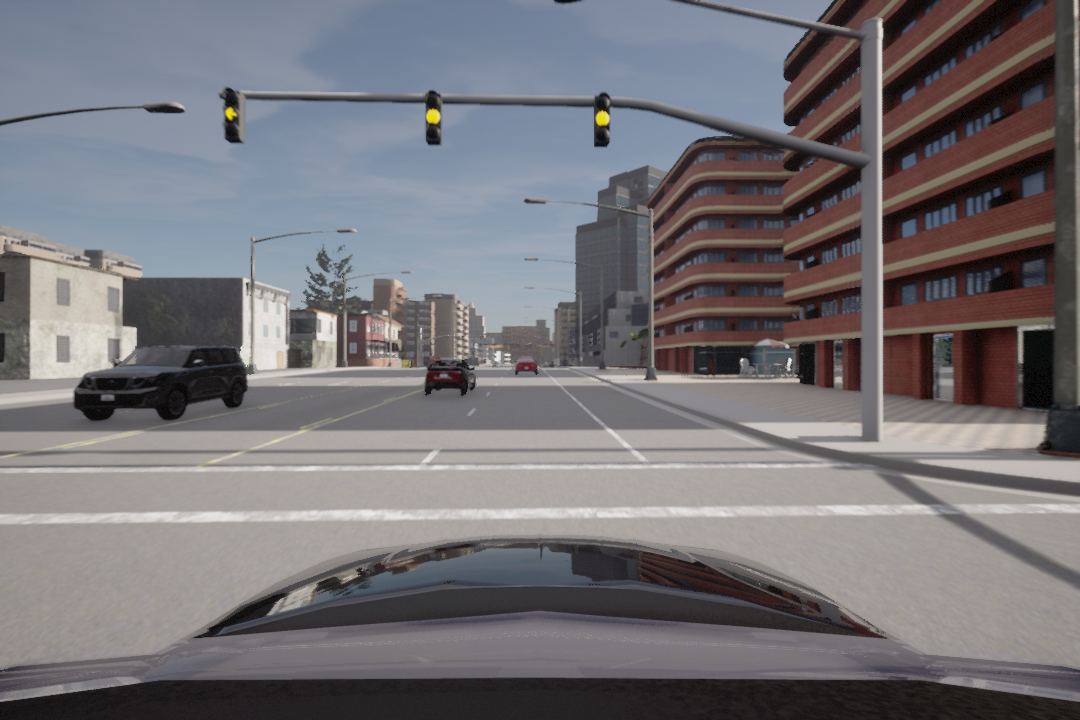TrafficLight: (417, 91, 451, 145), (591, 91, 612, 151), (221, 88, 242, 144)
